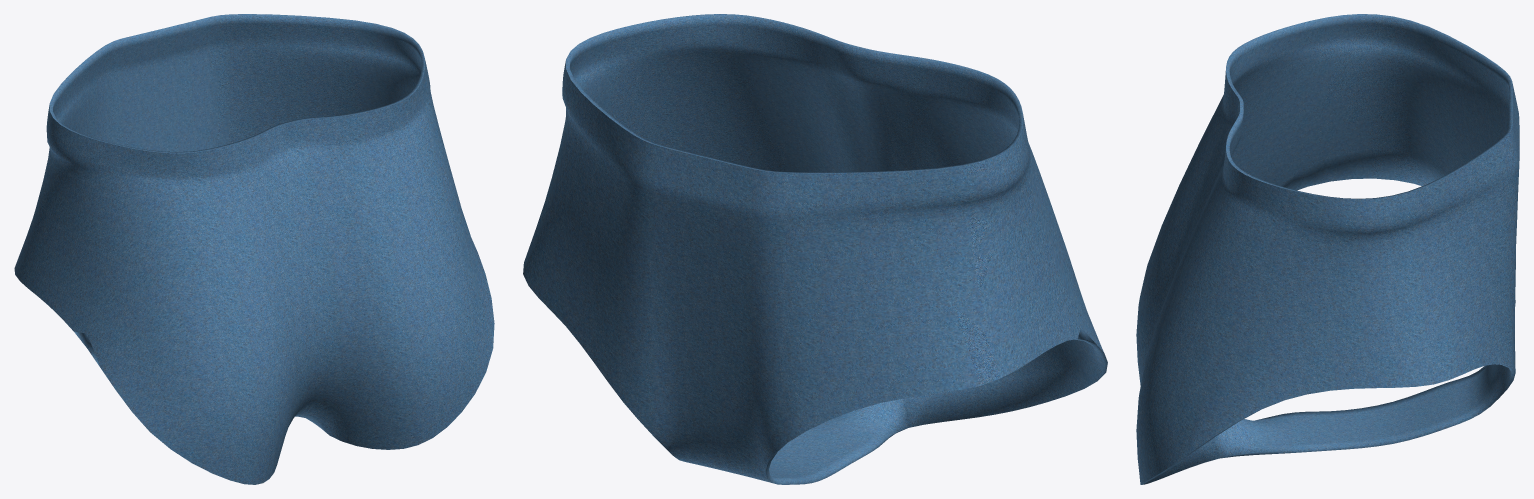
The model's file is Underwear2.fbx.
3 views of the same model, side by side, from view 1: azimuth 30°, elevation 25°; view 2: azimuth 150°, elevation 25°; view 3: azimuth 270°, elevation 25° (orthographic). The views are drawn at different scales.
Parts seen in each view (by area): view 1: Underwear (Outside), Underwear (Inside); view 2: Underwear (Outside), Underwear (Inside); view 3: Underwear (Outside), Underwear (Inside).
Part boxes in pixels (x1,y1,x2,y2): Underwear (Outside): (14, 58, 494, 484); Underwear (Inside): (49, 14, 424, 367); Underwear (Outside): (523, 61, 1103, 483); Underwear (Inside): (566, 14, 1107, 484); Underwear (Outside): (1136, 71, 1519, 484); Underwear (Inside): (1140, 14, 1515, 484).
Bounding box in the file's own units: 1.55 × 1.17 × 1.18.
Materials: 1 (1 with a texture image).
